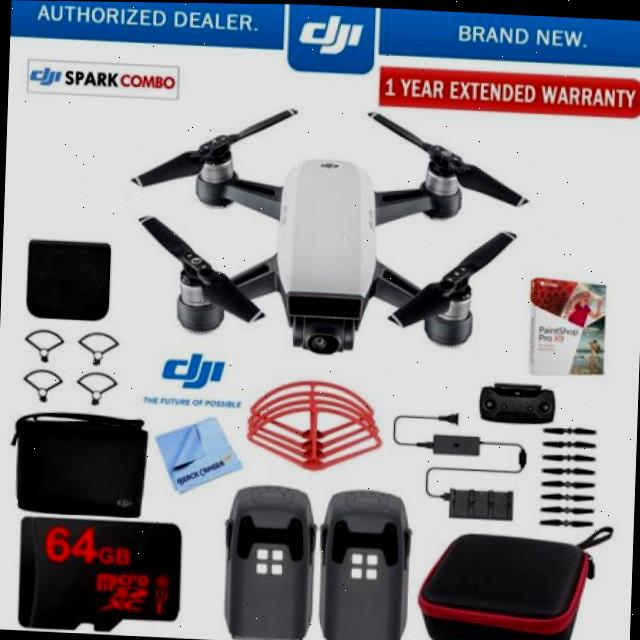drone: (119, 96, 544, 367)
